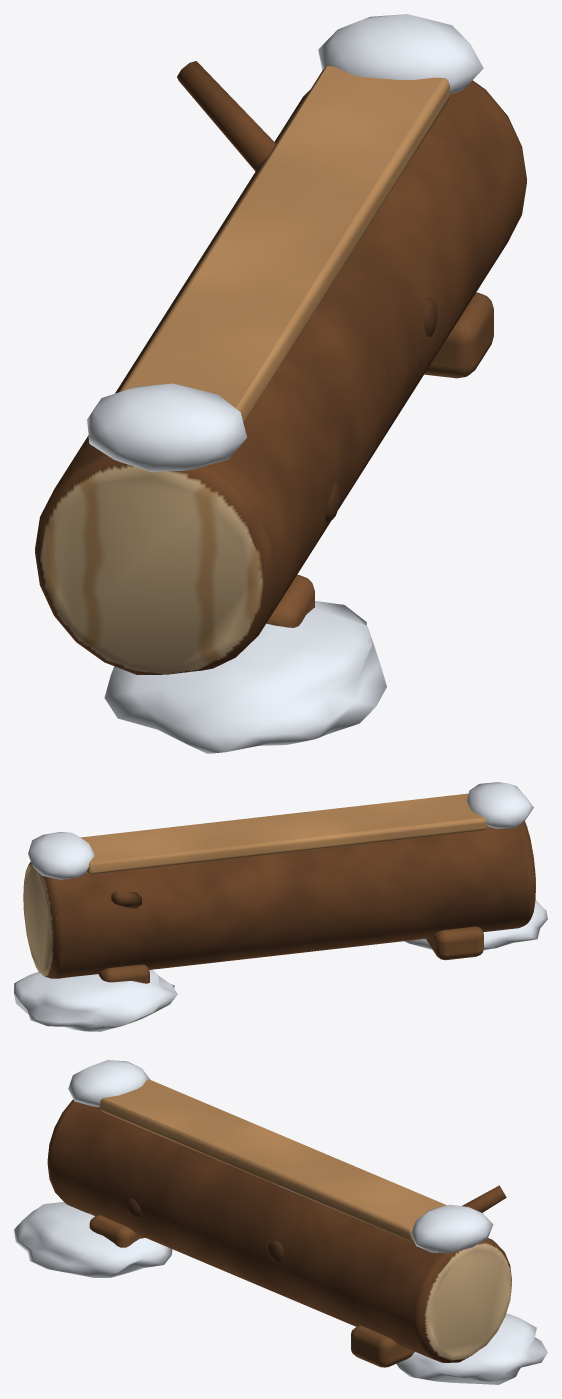
The model's file is log_seat.glb.
3 views of the same model, one above another, from view 1: azimuth 30°, elevation 25°; view 2: azimuth 150°, elevation 25°; view 3: azimuth 270°, elevation 25° (orthographic). The views are drawn at different scales.
Visible parts, largest first — view 1: chock; view 2: chock; view 3: chock.
Boxes of the visible parts, <box> form: chock: <box>35,14,526,753</box>; chock: <box>14,782,547,1031</box>; chock: <box>14,1060,547,1384</box>.
Size of the model in its own units: 1.38 by 0.5797 by 1.59.
Materials: 1 (1 with a texture image).
